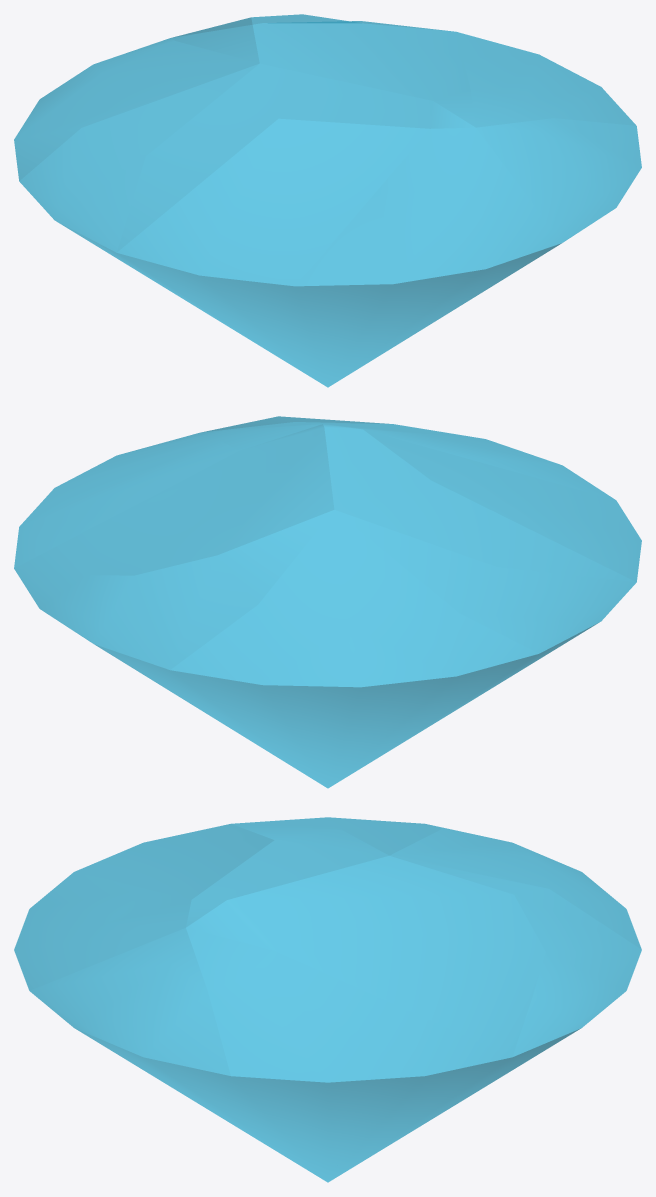
The model's file is Gem.fbx.
3 views of the same model, one above another, from view 1: azimuth 30°, elevation 25°; view 2: azimuth 150°, elevation 25°; view 3: azimuth 270°, elevation 25° (orthographic).
Parts seen in each view (by area): view 1: pPlatonic2; view 2: pPlatonic2; view 3: pPlatonic2.
Part boxes in pixels (bbox=[...]): pPlatonic2: bbox=[14, 14, 641, 387]; pPlatonic2: bbox=[14, 416, 641, 788]; pPlatonic2: bbox=[14, 817, 641, 1182].
Bounding box in the file's own units: 1.56 × 0.8452 × 1.56.
